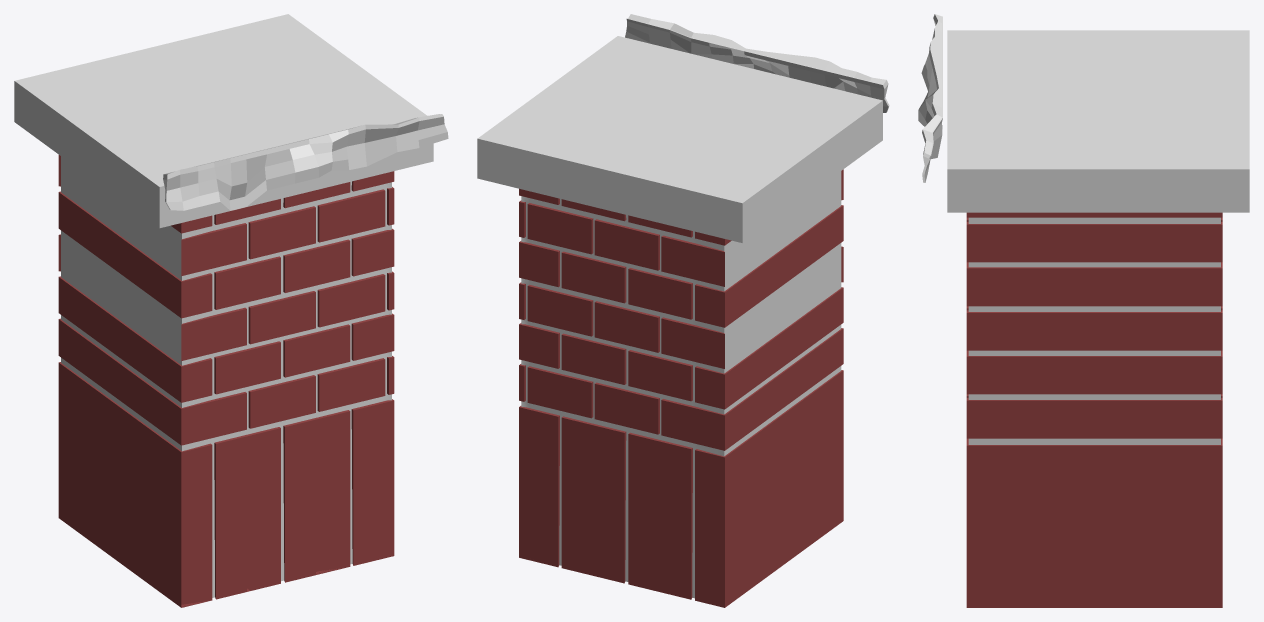
File: chimney.fbx
3 renders of one model, left to right at view 1: azimuth 30°, elevation 25°; view 2: azimuth 150°, elevation 25°; view 3: azimuth 270°, elevation 25°, orthographic. The views are drawn at different scales.
Visible parts, largest first — view 1: pCube6; view 2: pCube6; view 3: pCube6.
Part boxes in pixels (x1,y1,x2,y2): pCube6: [14, 14, 448, 607]; pCube6: [477, 14, 889, 607]; pCube6: [918, 14, 1249, 607].
Bounding box in the file's own units: 14.87 × 23.28 × 14.76.
